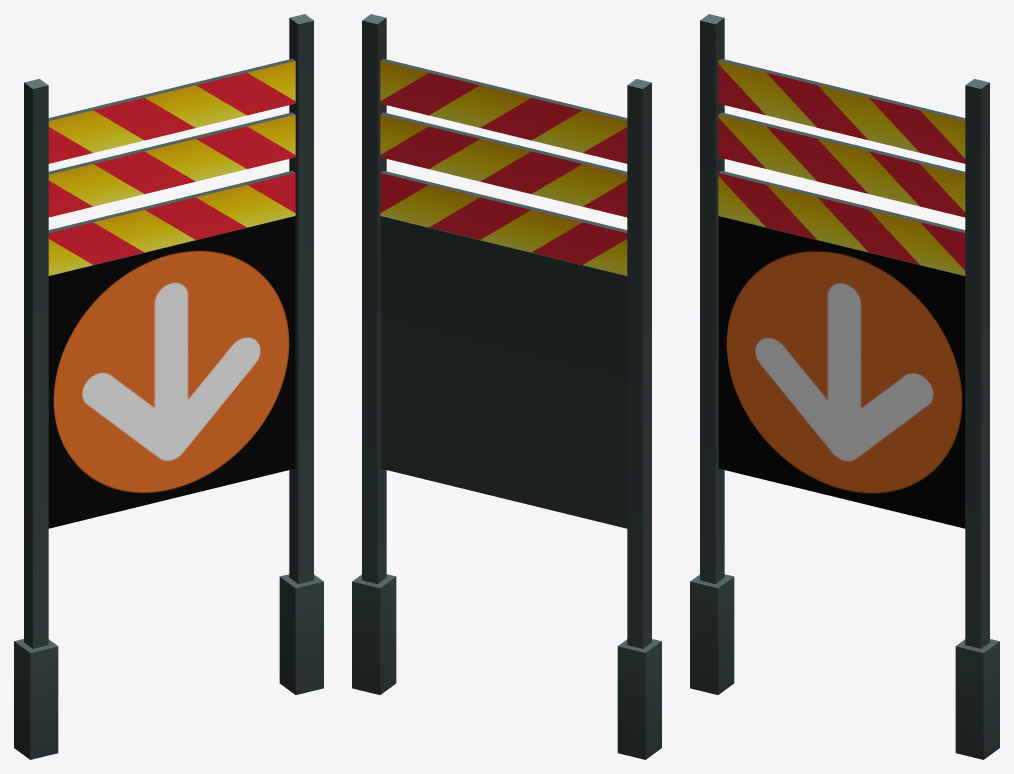
Rendered from Obstacle-Down.fbx.
The picture shows the model from 3 angles, left to right: view 1: azimuth 30°, elevation 25°; view 2: azimuth 150°, elevation 25°; view 3: azimuth 330°, elevation 25°; orthographic projection.
Parts seen in each view (by area): view 1: Industrial_Fence_1A; view 2: Industrial_Fence_1A; view 3: Industrial_Fence_1A.
Part boxes in pixels (x1,y1,x2,y2): Industrial_Fence_1A: (14,14,323,759); Industrial_Fence_1A: (352,14,661,759); Industrial_Fence_1A: (690,14,999,759).
Size of the model in its own units: 193 by 420 by 18.49.
